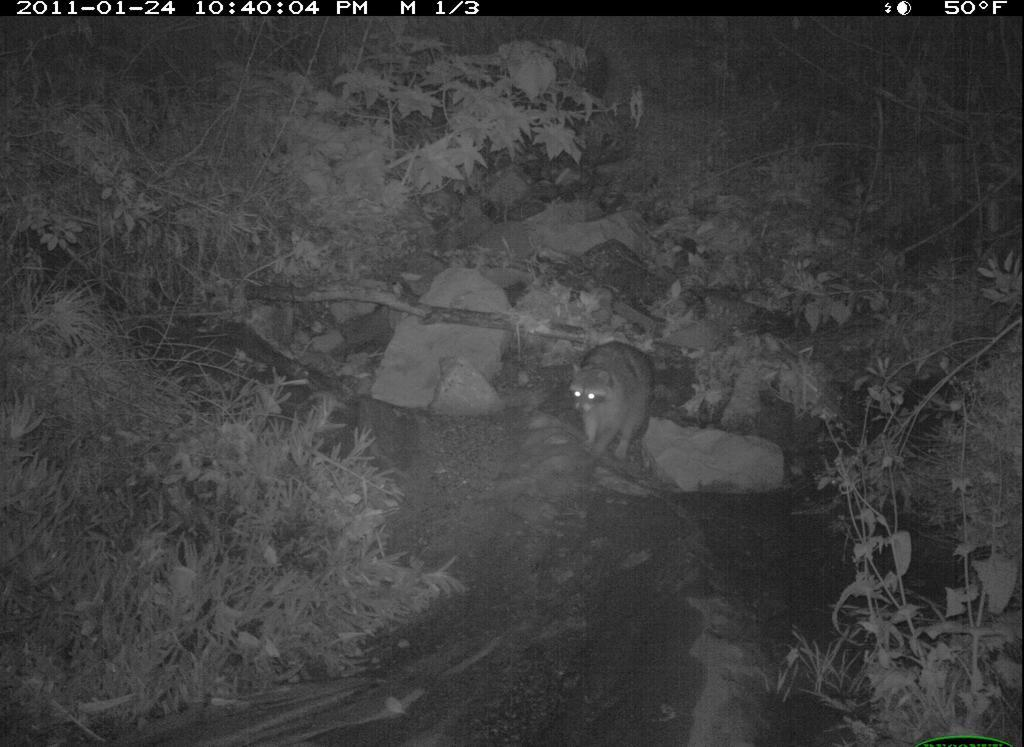raccoon: (556, 341, 665, 470)
